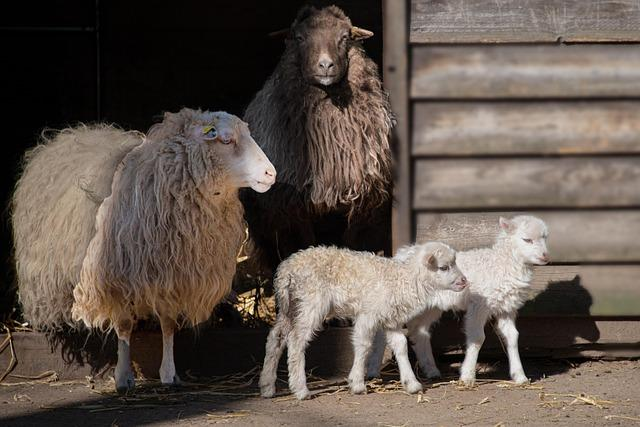Non_Gorille: (13, 2, 632, 394)
